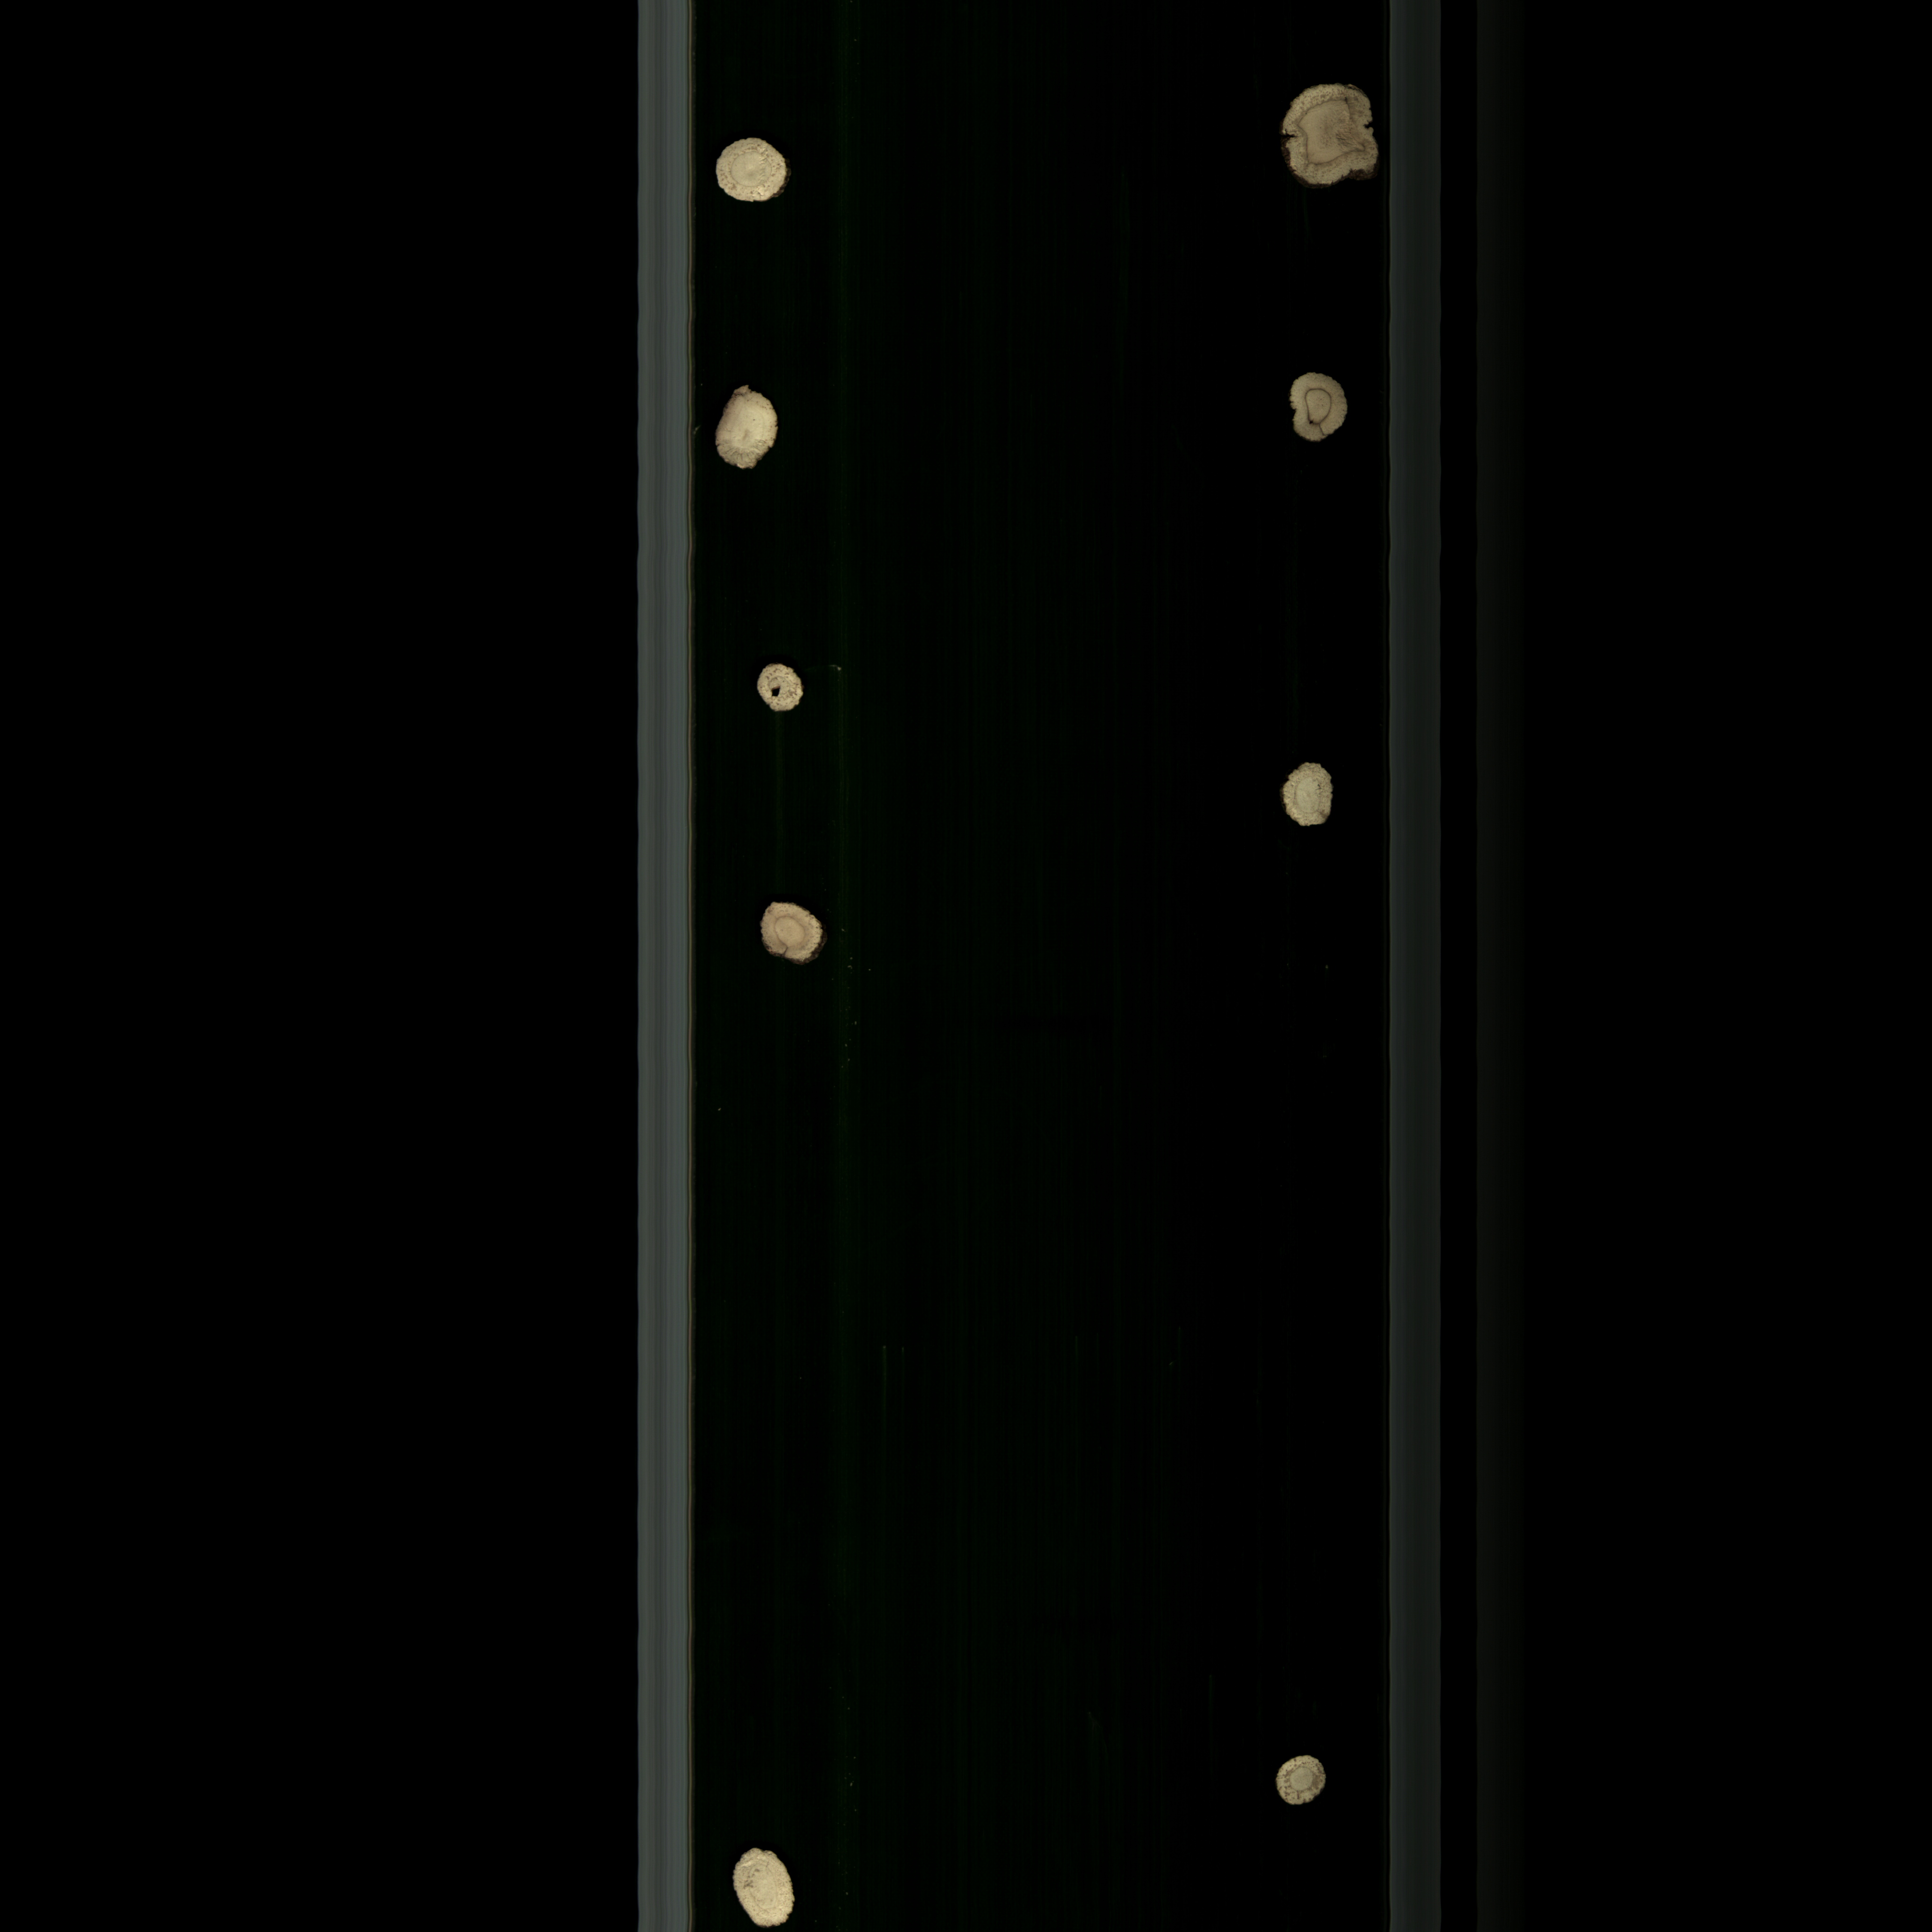debris: (706, 380, 796, 481)
hole: (750, 651, 823, 724)
moldy: (1261, 73, 1398, 198), (741, 892, 849, 982), (1277, 363, 1361, 451), (1270, 1750, 1339, 1808)
